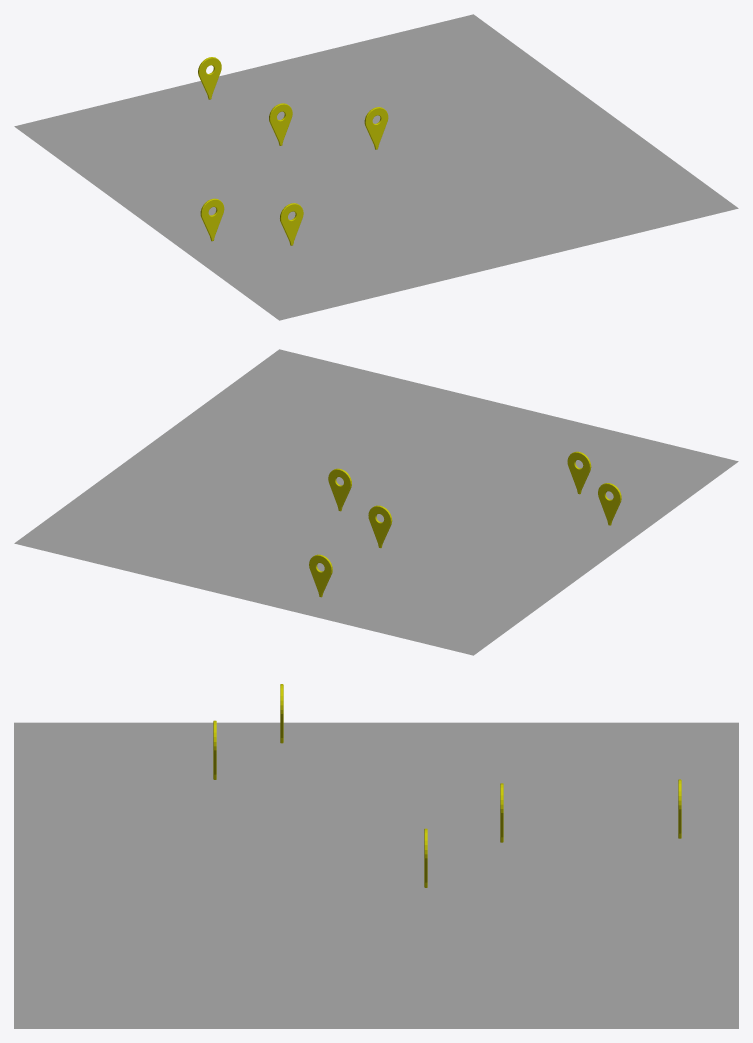
Rendered from firstMap3.obj.
3 views of the same model, one above another, from view 1: azimuth 30°, elevation 25°; view 2: azimuth 150°, elevation 25°; view 3: azimuth 270°, elevation 25° (orthographic). The views are drawn at different scales.
Parts seen in each view (by area): view 1: Plane, Maps_Marker.001, Maps_Marker.004, Maps_Marker.003, Maps_Marker.002, Maps_Marker; view 2: Plane, Maps_Marker.003, Maps_Marker.001, Maps_Marker.002, Maps_Marker.004, Maps_Marker; view 3: Plane.
Boxes of the visible parts, x1,y1,x2,y2 form: Plane: [14, 14, 738, 320]; Maps_Marker.001: [198, 57, 221, 99]; Maps_Marker.004: [280, 203, 303, 245]; Maps_Marker.003: [200, 198, 224, 241]; Maps_Marker.002: [269, 103, 292, 145]; Maps_Marker: [364, 107, 388, 149]; Plane: [14, 349, 738, 655]; Maps_Marker.003: [598, 483, 621, 525]; Maps_Marker.001: [309, 554, 332, 597]; Maps_Marker.002: [368, 505, 392, 548]; Maps_Marker.004: [567, 451, 591, 494]; Maps_Marker: [328, 468, 351, 511]; Plane: [14, 722, 738, 1028].
Bounding box in the file's own units: 16 × 1.4 × 16.
